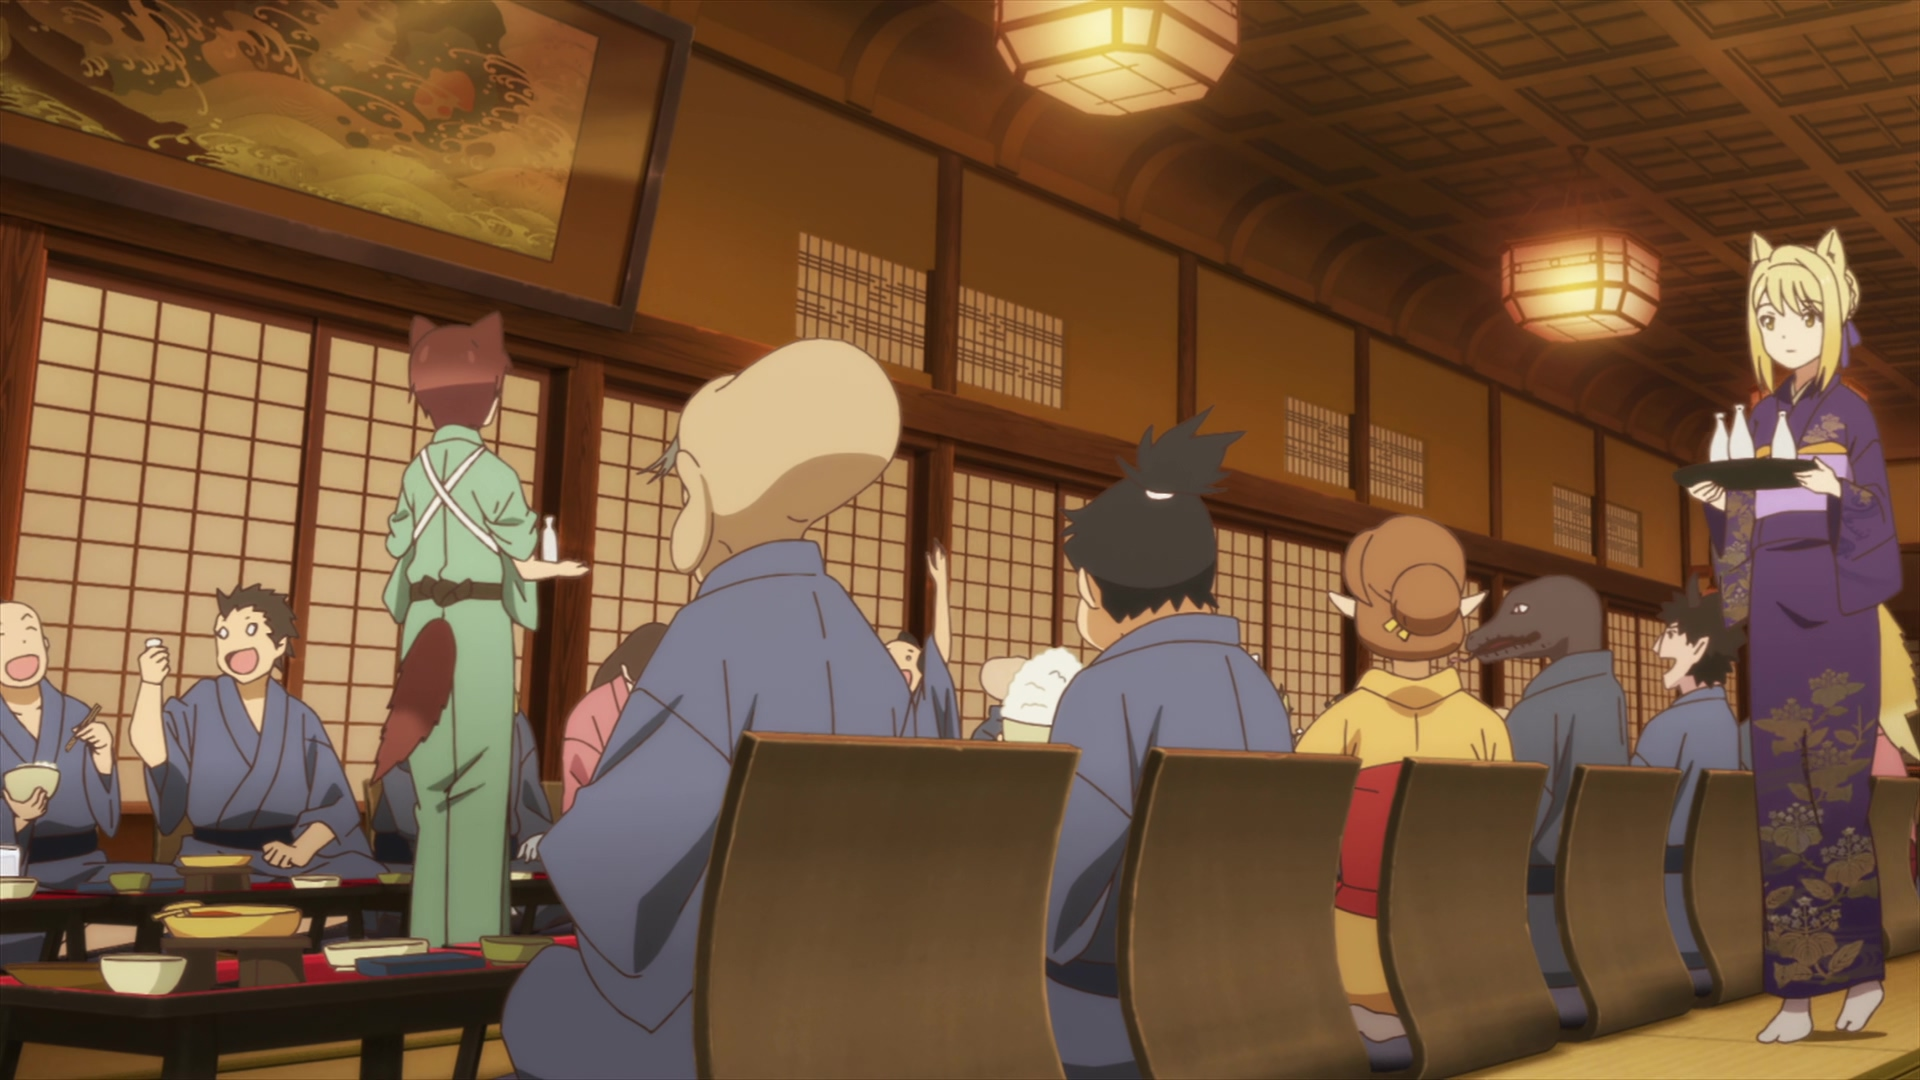其他: (504, 342, 916, 1080), (1044, 409, 1291, 1080), (1295, 517, 1513, 1015), (132, 585, 382, 885), (1466, 572, 1634, 986), (1, 601, 170, 887), (1633, 583, 1741, 969), (563, 622, 670, 818), (880, 545, 956, 741)
枣: (367, 313, 591, 942)
桐: (1677, 229, 1920, 1040)
